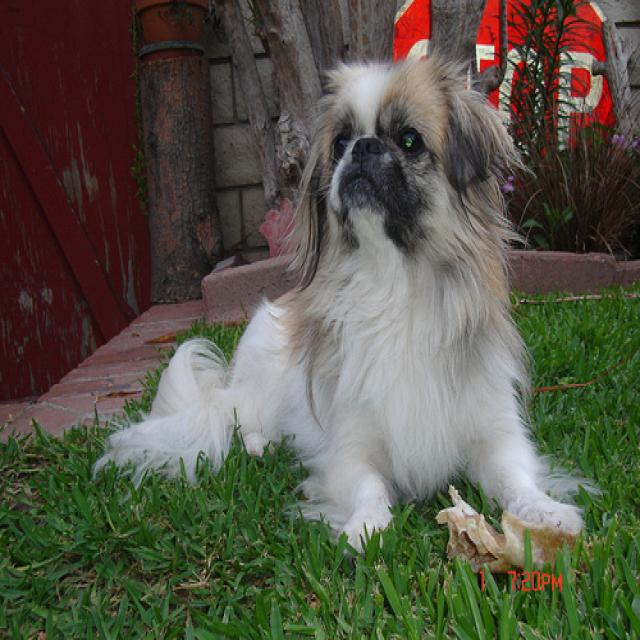dog-japanese_chin: (82, 38, 612, 561)
